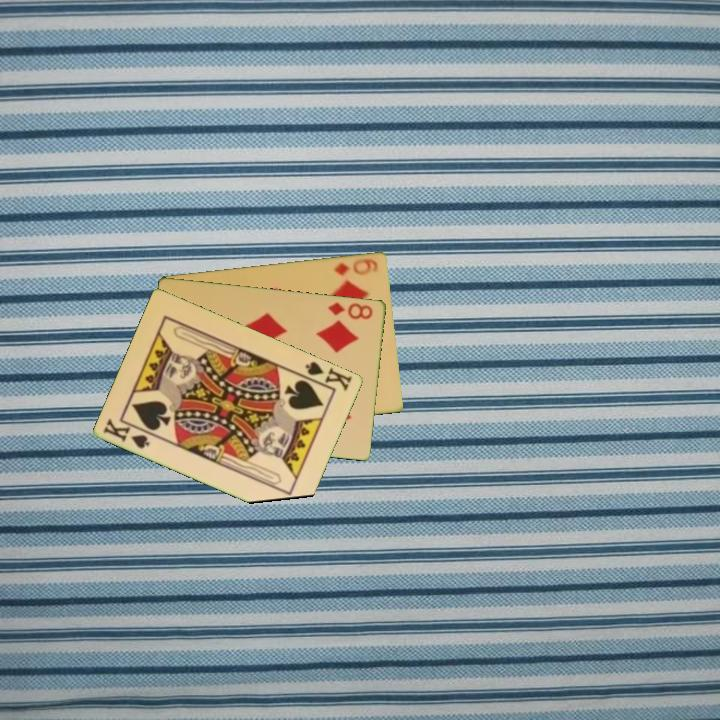6d: (331, 254, 381, 278)
8d: (325, 299, 376, 322)
Ks: (302, 357, 356, 394), (100, 415, 153, 451)
